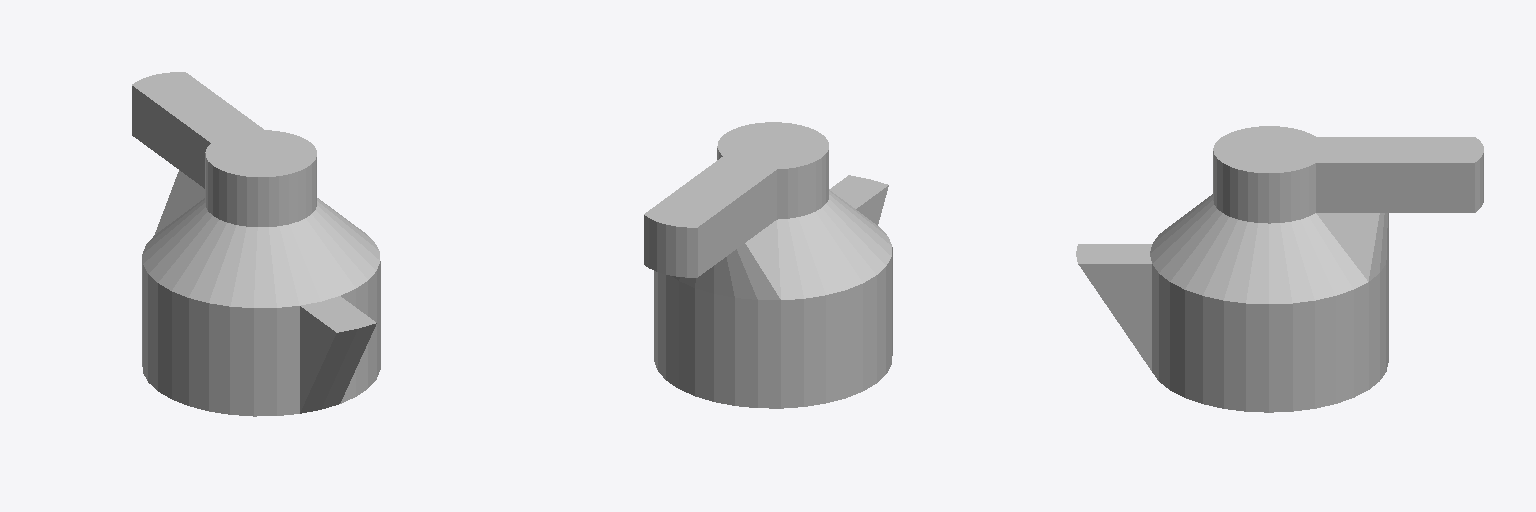
The model's file is standinDuck.obj.
3 renders of one model, left to right at view 1: azimuth 30°, elevation 25°; view 2: azimuth 150°, elevation 25°; view 3: azimuth 270°, elevation 25°, orthographic.
Parts seen in each view (by area): view 1: Cylinder; view 2: Cylinder; view 3: Cylinder.
Boxes of the visible parts, x1,y1,x2,y2 form: Cylinder: [132, 72, 380, 416]; Cylinder: [644, 122, 892, 408]; Cylinder: [1076, 126, 1483, 412].
Bounding box in the file's own units: 4 × 3.93 × 6.84.